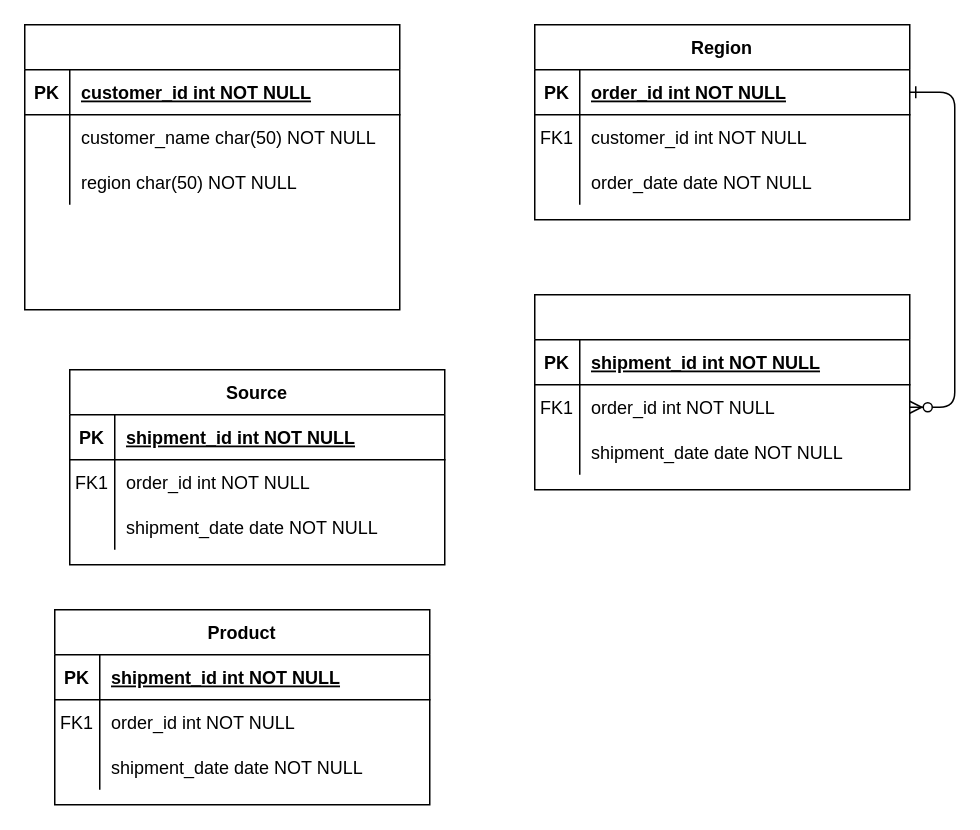
Image size: 980x830. Some labels were removed from this diagram. The shapes that lost their labels are listed below. From the top down, each one's box as (x1, y1, x2, y2) in pixels, then its label:
(23, 23, 400, 310): Customers
(533, 293, 910, 490): Payment
